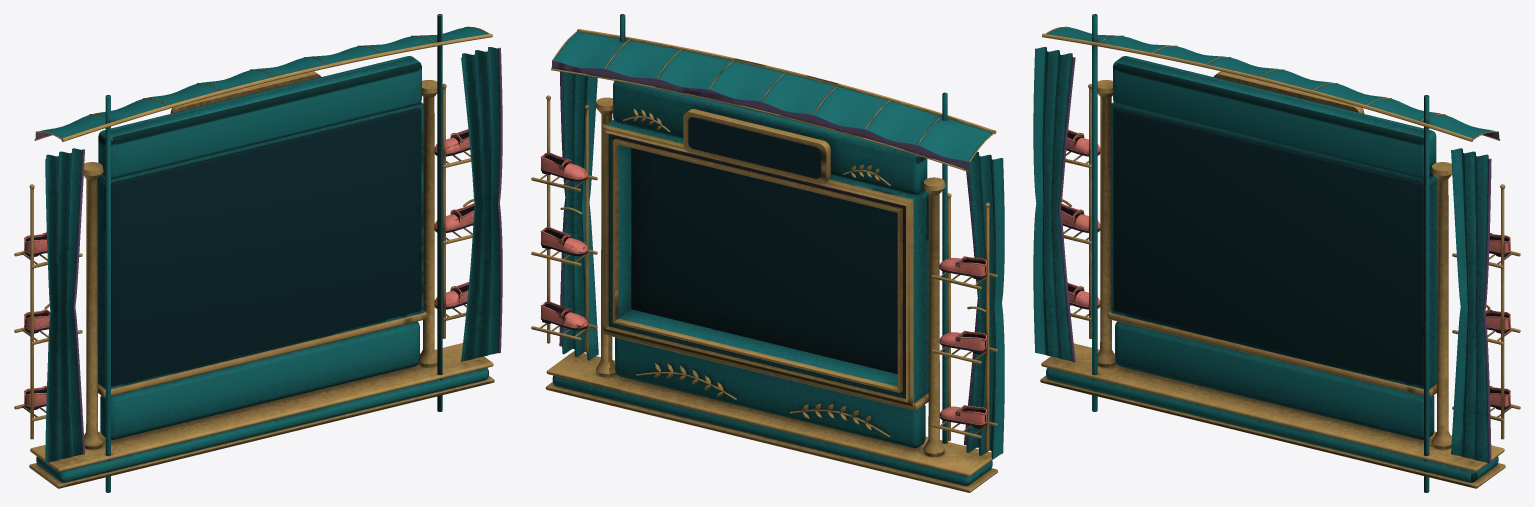
The picture shows the model from 3 angles, left to right: view 1: azimuth 30°, elevation 25°; view 2: azimuth 150°, elevation 25°; view 3: azimuth 330°, elevation 25°; orthographic projection. The views are drawn at different scales.
Parts seen in each view (by area): view 1: Woven_teal, Dark_teal_inset, Satin_brass, Coral_leather, Violet_cloth_lining, Plum_leather_lining; view 2: Woven_teal, Dark_teal_inset, Satin_brass, Coral_leather, Violet_cloth_lining, Plum_leather_lining; view 3: Woven_teal, Dark_teal_inset, Satin_brass, Violet_cloth_lining, Coral_leather, Plum_leather_lining.
Boxes of the visible parts, box(x1,y1,x2,y2) form: Woven_teal: box(36, 14, 499, 492); Dark_teal_inset: box(111, 108, 421, 386); Satin_brass: box(14, 26, 494, 488); Coral_leather: box(24, 129, 474, 406); Violet_cloth_lining: box(35, 47, 502, 454); Plum_leather_lining: box(24, 131, 474, 410); Woven_teal: box(552, 14, 1004, 485); Dark_teal_inset: box(631, 117, 897, 373); Satin_brass: box(531, 29, 997, 492); Coral_leather: box(540, 153, 987, 425); Violet_cloth_lining: box(551, 60, 978, 445); Plum_leather_lining: box(541, 135, 986, 428); Woven_teal: box(1033, 14, 1498, 492); Dark_teal_inset: box(1113, 108, 1423, 386); Satin_brass: box(1040, 26, 1520, 488); Violet_cloth_lining: box(1058, 57, 1499, 463); Coral_leather: box(1061, 129, 1510, 406); Plum_leather_lining: box(1061, 132, 1510, 410).
Size of the model in its own units: 10.88 by 8.9 by 1.39.
Materials: 6 (6 with a texture image).
